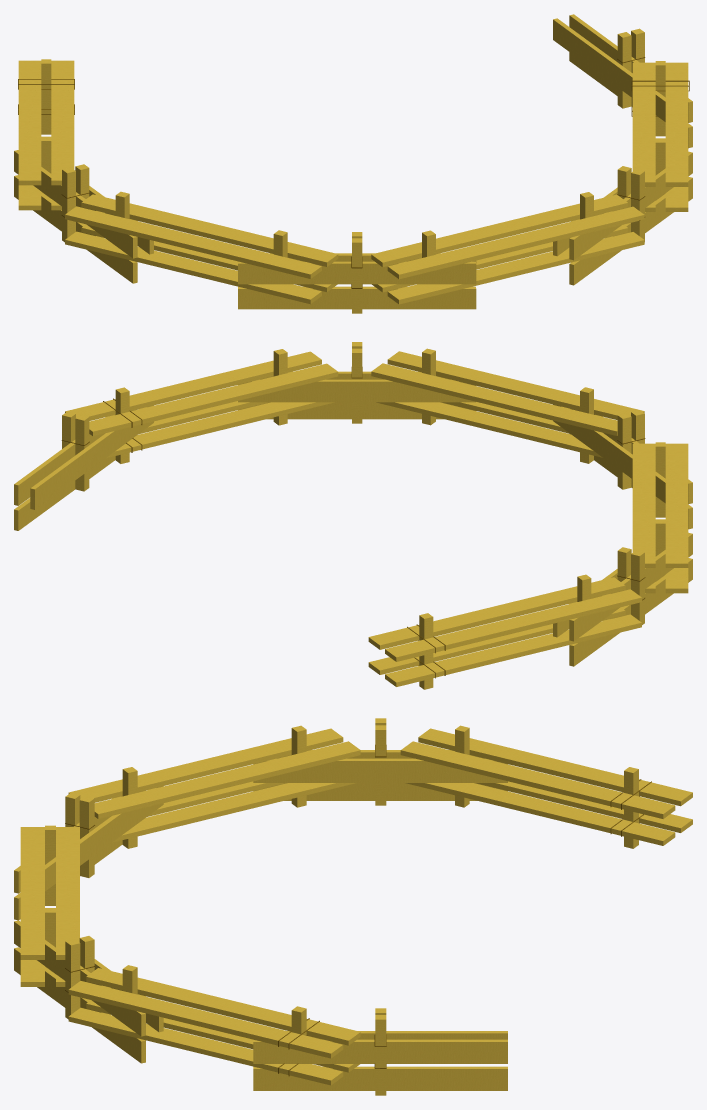
The picture shows the model from 3 angles, top to bottom: view 1: azimuth 30°, elevation 25°; view 2: azimuth 150°, elevation 25°; view 3: azimuth 270°, elevation 25°; orthographic projection. The views are drawn at different scales.
Visible parts, largest first — view 1: plank 1 (×14), plank 1#1 (×4), plank 1#2 (×5), 90 by 90 post (×6); view 2: plank 1 (×15), plank 1#2 (×5), plank 1#1 (×3), 90 by 90 post (×6); view 3: plank 1 (×15), plank 1#2 (×5), 90 by 90 post (×8), plank 1#1 (×3).
Part boxes in pixels (x1=…): plank 1 (×14): x1=18, y1=60, x2=688, y2=304; plank 1#1 (×4): x1=238, y1=151, x2=692, y2=309; plank 1#2 (×5): x1=14, y1=14, x2=692, y2=283; 90 by 90 post (×6): x1=41, y1=32, x2=665, y2=313; plank 1 (×15): x1=65, y1=351, x2=688, y2=686; plank 1#2 (×5): x1=14, y1=405, x2=692, y2=666; plank 1#1 (×3): x1=238, y1=379, x2=665, y2=503; 90 by 90 post (×6): x1=75, y1=348, x2=665, y2=689; plank 1 (×15): x1=20, y1=728, x2=692, y2=1085; plank 1#2 (×5): x1=253, y1=758, x2=507, y2=1090; 90 by 90 post (×8): x1=45, y1=725, x2=638, y2=1095; plank 1#1 (×3): x1=14, y1=786, x2=163, y2=1063.
Bounding box in the file's own units: 6.35 × 0.69 × 5.6.
Materials: 2 (1 with a texture image).
